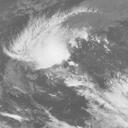cyclone: (30, 35, 70, 64)
